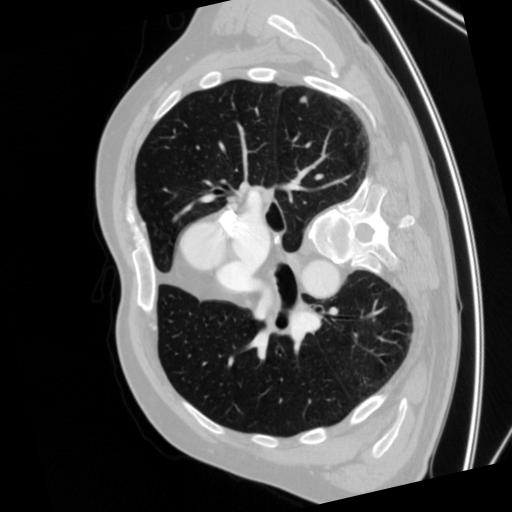nodule: (297, 92, 310, 105)
